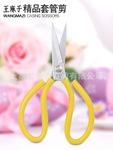scissor: (18, 22, 96, 145)
